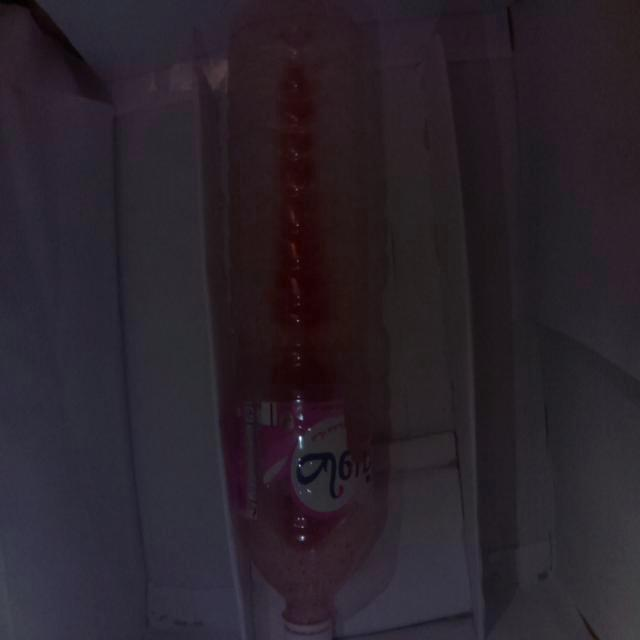bottle: (227, 12, 371, 637)
